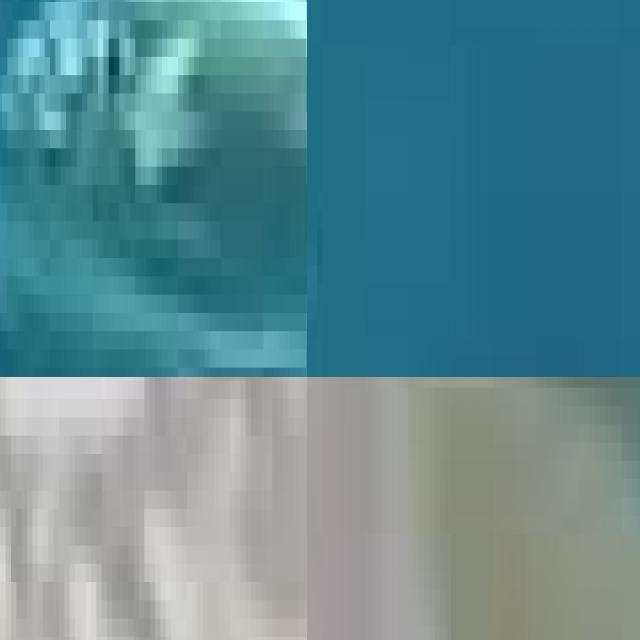fish: (0, 0, 307, 377), (307, 377, 640, 640)
